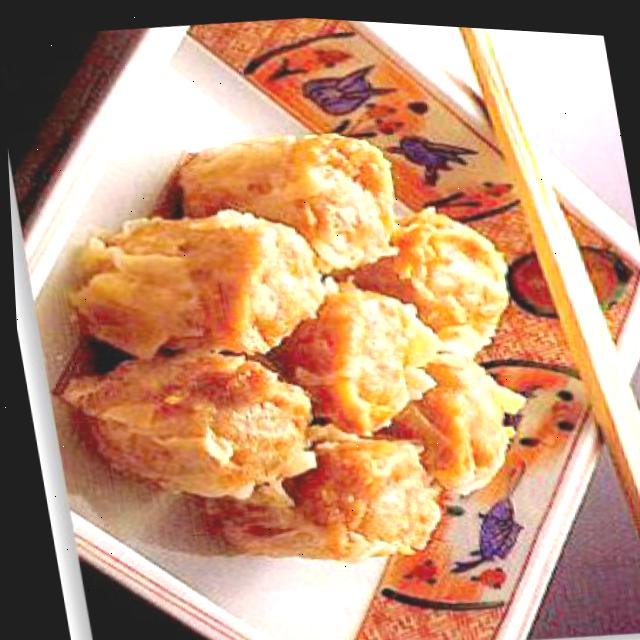带馅早点: (21, 92, 557, 597)
